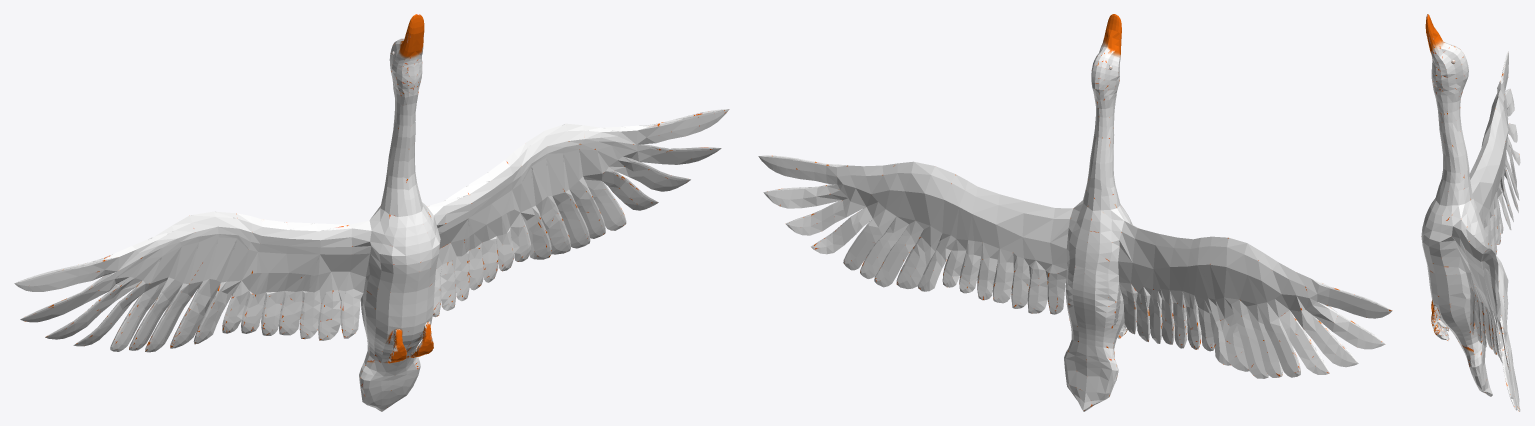
Rendered from goose.fbx.
3 renders of one model, left to right at view 1: azimuth 30°, elevation 25°; view 2: azimuth 150°, elevation 25°; view 3: azimuth 270°, elevation 25°, orthographic. The views are drawn at different scales.
Visible parts, largest first — view 1: GOOSECAN$LWO_mesh_; view 2: GOOSECAN$LWO_mesh_; view 3: GOOSECAN$LWO_mesh_.
Part boxes in pixels (x1=…): GOOSECAN$LWO_mesh_: x1=14, y1=14, x2=729, y2=411; GOOSECAN$LWO_mesh_: x1=758, y1=14, x2=1392, y2=411; GOOSECAN$LWO_mesh_: x1=1421, y1=14, x2=1520, y2=411.
Size of the model in its own units: 119 by 67.18 by 15.78.
1 material, 1 textured.
